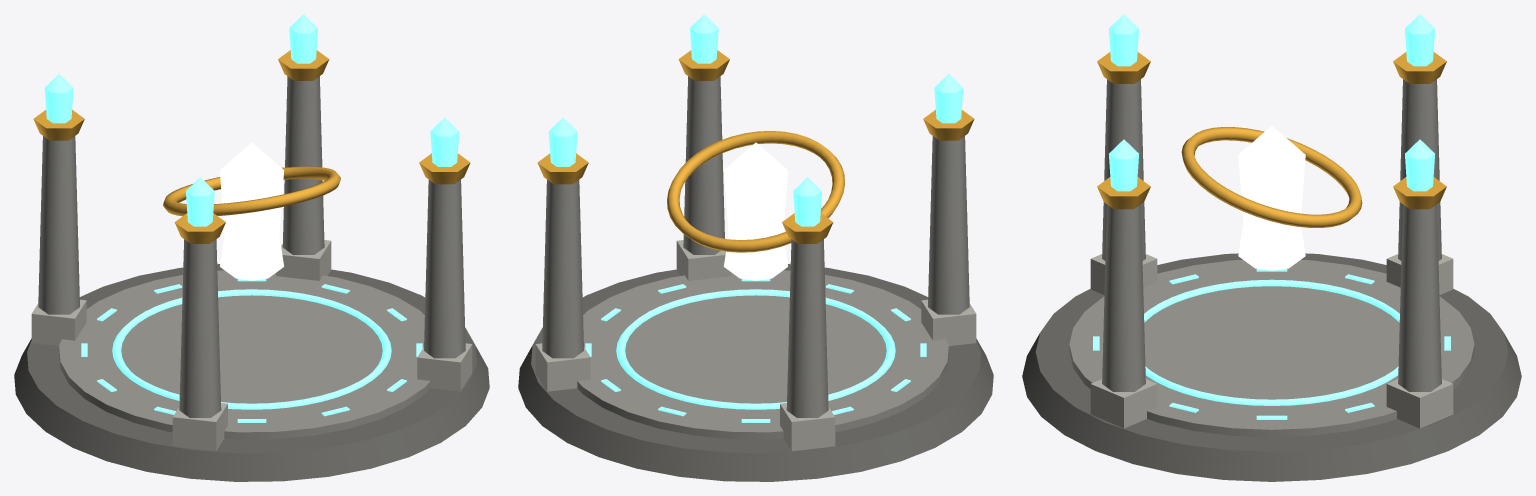
File: ExtractionBeacon.glb
3 renders of one model, left to right at view 1: azimuth 30°, elevation 25°; view 2: azimuth 150°, elevation 25°; view 3: azimuth 270°, elevation 25°, orthographic. The views are drawn at different scales.
Parts seen in each view (by area): view 1: Body, Glow, HoverCore, Ring; view 2: Body, Glow, HoverCore, Ring; view 3: Body, Glow, HoverCore, Ring.
Boxes of the visible parts, <box> form: Body: <box>14,50,489,481</box>; Glow: <box>44,14,459,422</box>; HoverCore: <box>220,142,283,280</box>; Ring: <box>163,166,340,216</box>; Body: <box>518,50,993,481</box>; Glow: <box>548,14,963,422</box>; HoverCore: <box>724,142,787,280</box>; Ring: <box>667,131,844,252</box>; Body: <box>1022,52,1521,481</box>; Glow: <box>1093,14,1450,419</box>; HoverCore: <box>1238,126,1305,270</box>; Ring: <box>1181,127,1362,227</box>.
Bounding box in the file's own units: 14.8 × 9.8 × 14.8.
Materials: 4 (2 with a texture image).
